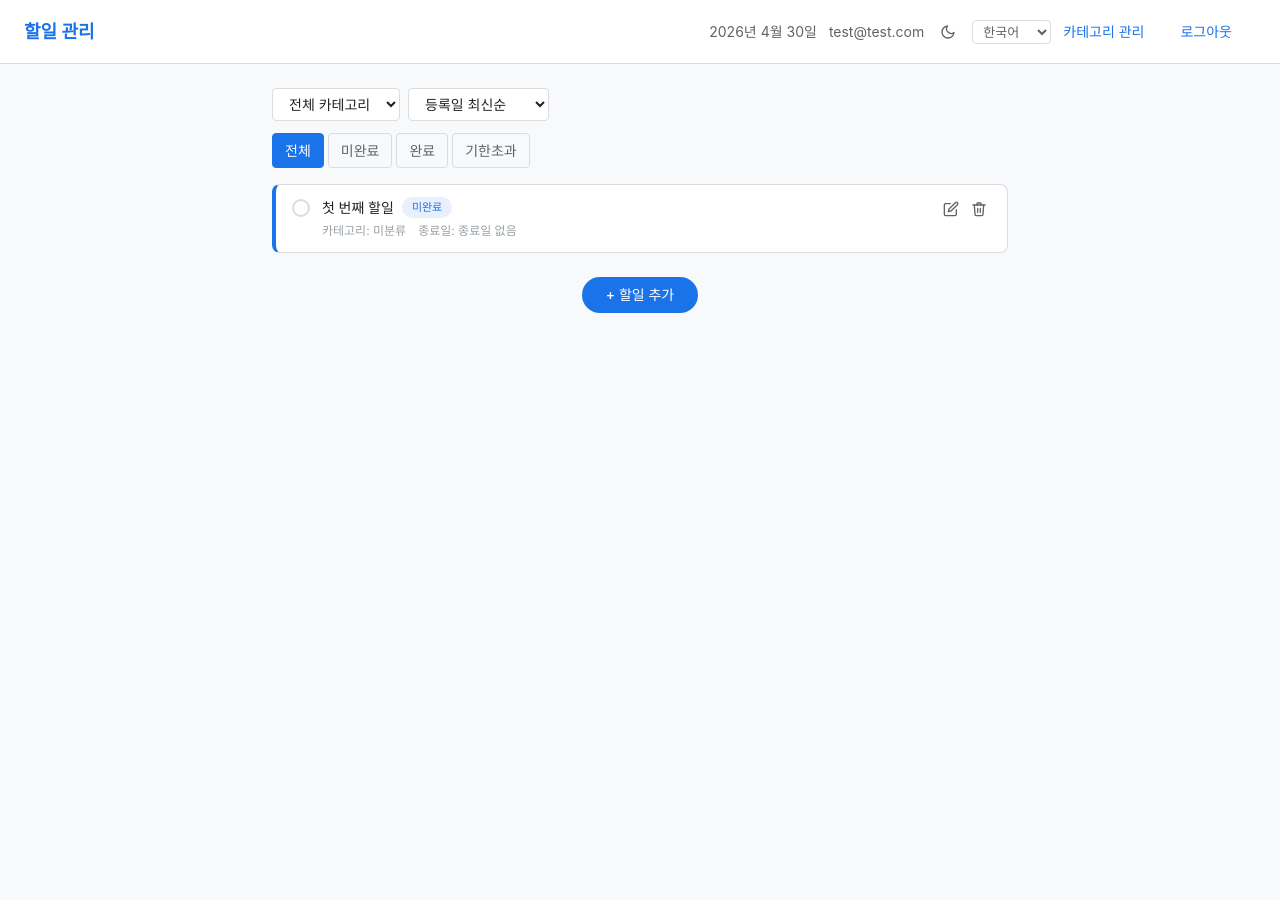
Test: TodoPage › "할일 추가" 버튼 클릭 시 TodoForm 모달 열림
Click the button "+ 할일 추가" at (640, 295), box [582, 277, 698, 313]
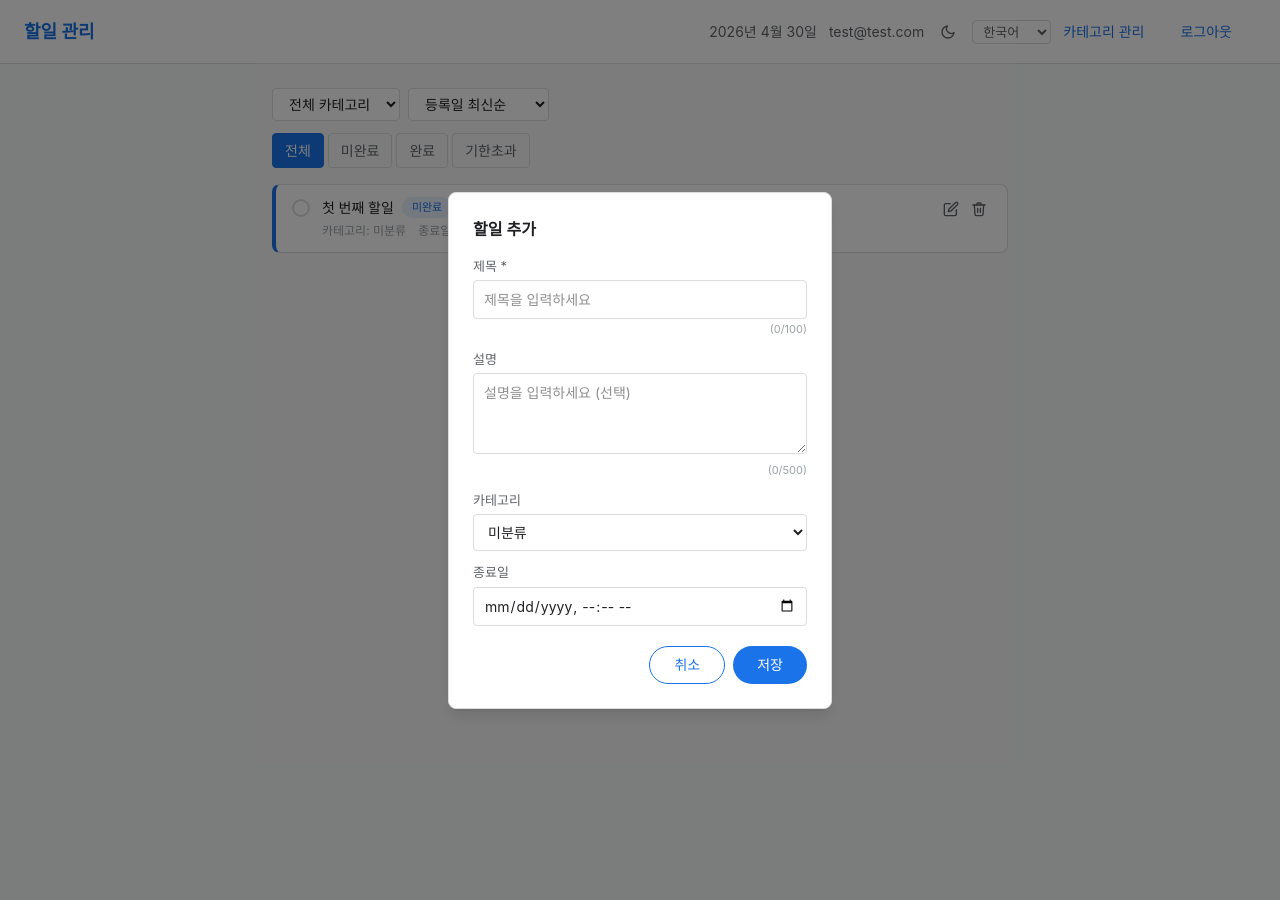
expect the heading "할일 추가" is shown: met, box [473, 218, 536, 238]
